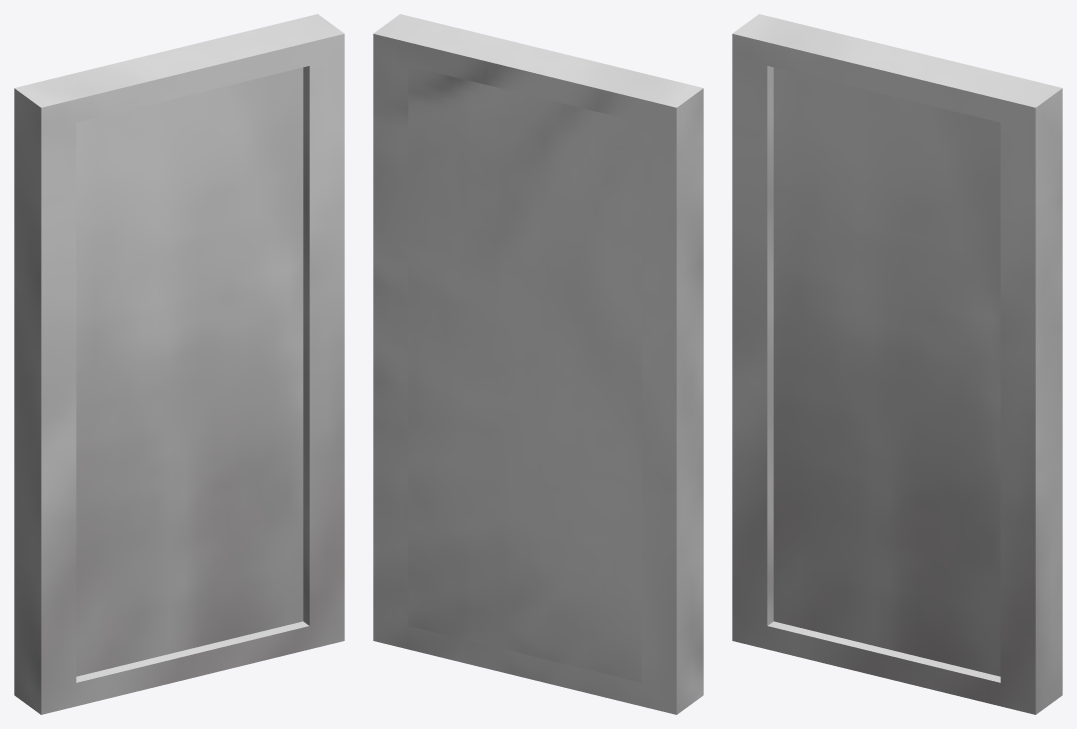
The model's file is pintura_solto.fbx.
3 renders of one model, left to right at view 1: azimuth 30°, elevation 25°; view 2: azimuth 150°, elevation 25°; view 3: azimuth 330°, elevation 25°, orthographic.
Visible parts, largest first — view 1: pintura_solta; view 2: pintura_solta; view 3: pintura_solta.
Boxes of the visible parts, x1,y1,x2,y2 form: pintura_solta: [14, 14, 344, 714]; pintura_solta: [373, 14, 703, 714]; pintura_solta: [732, 14, 1062, 714].
Size of the model in its own units: 124 by 237 by 19.11.
Materials: 1 (1 with a texture image).
